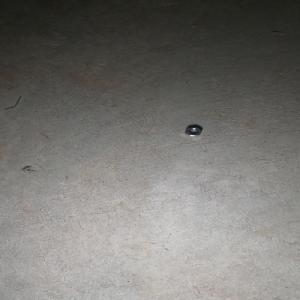Nut: (184, 126, 203, 137)
